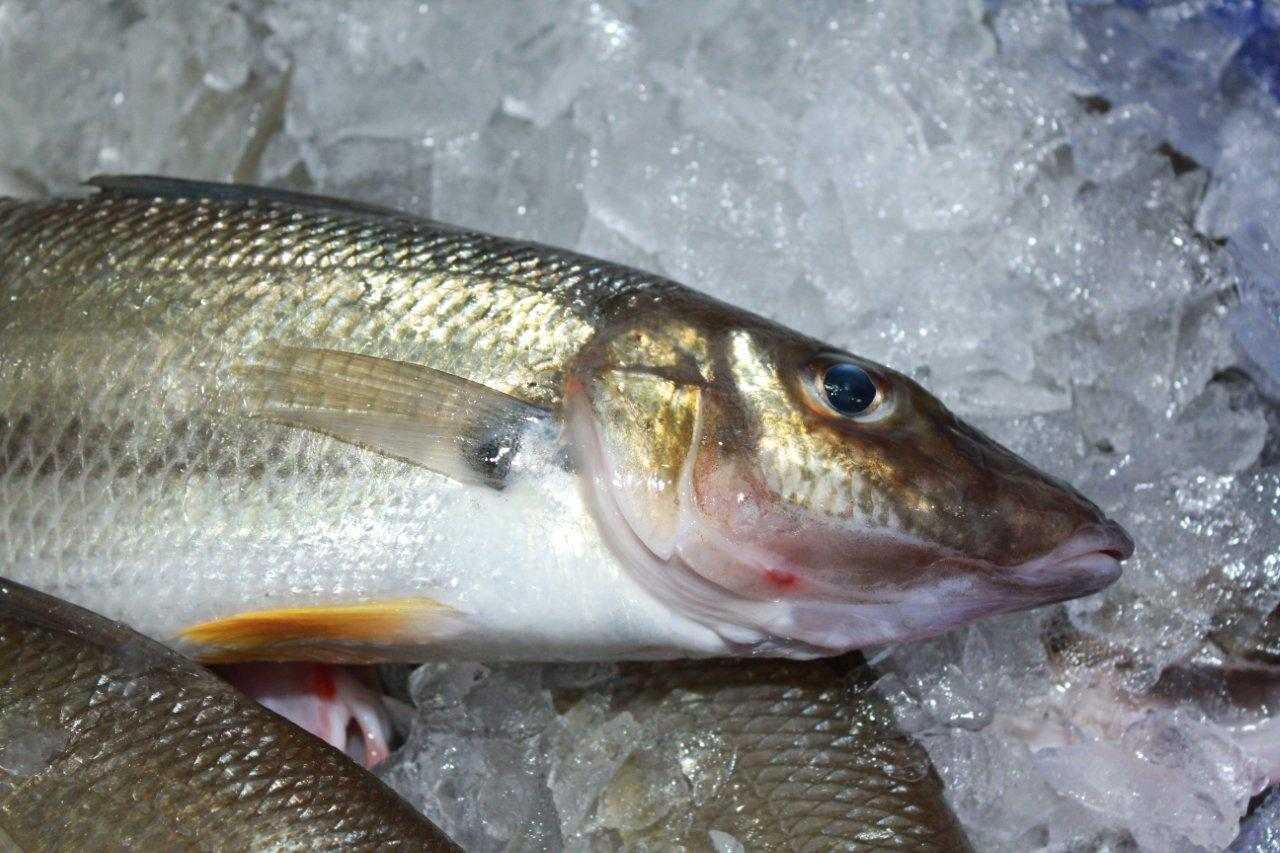kiss: (22, 160, 1139, 690)
